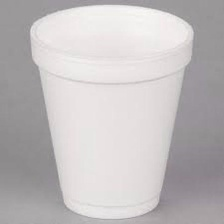paper_cup: (25, 0, 199, 224)
